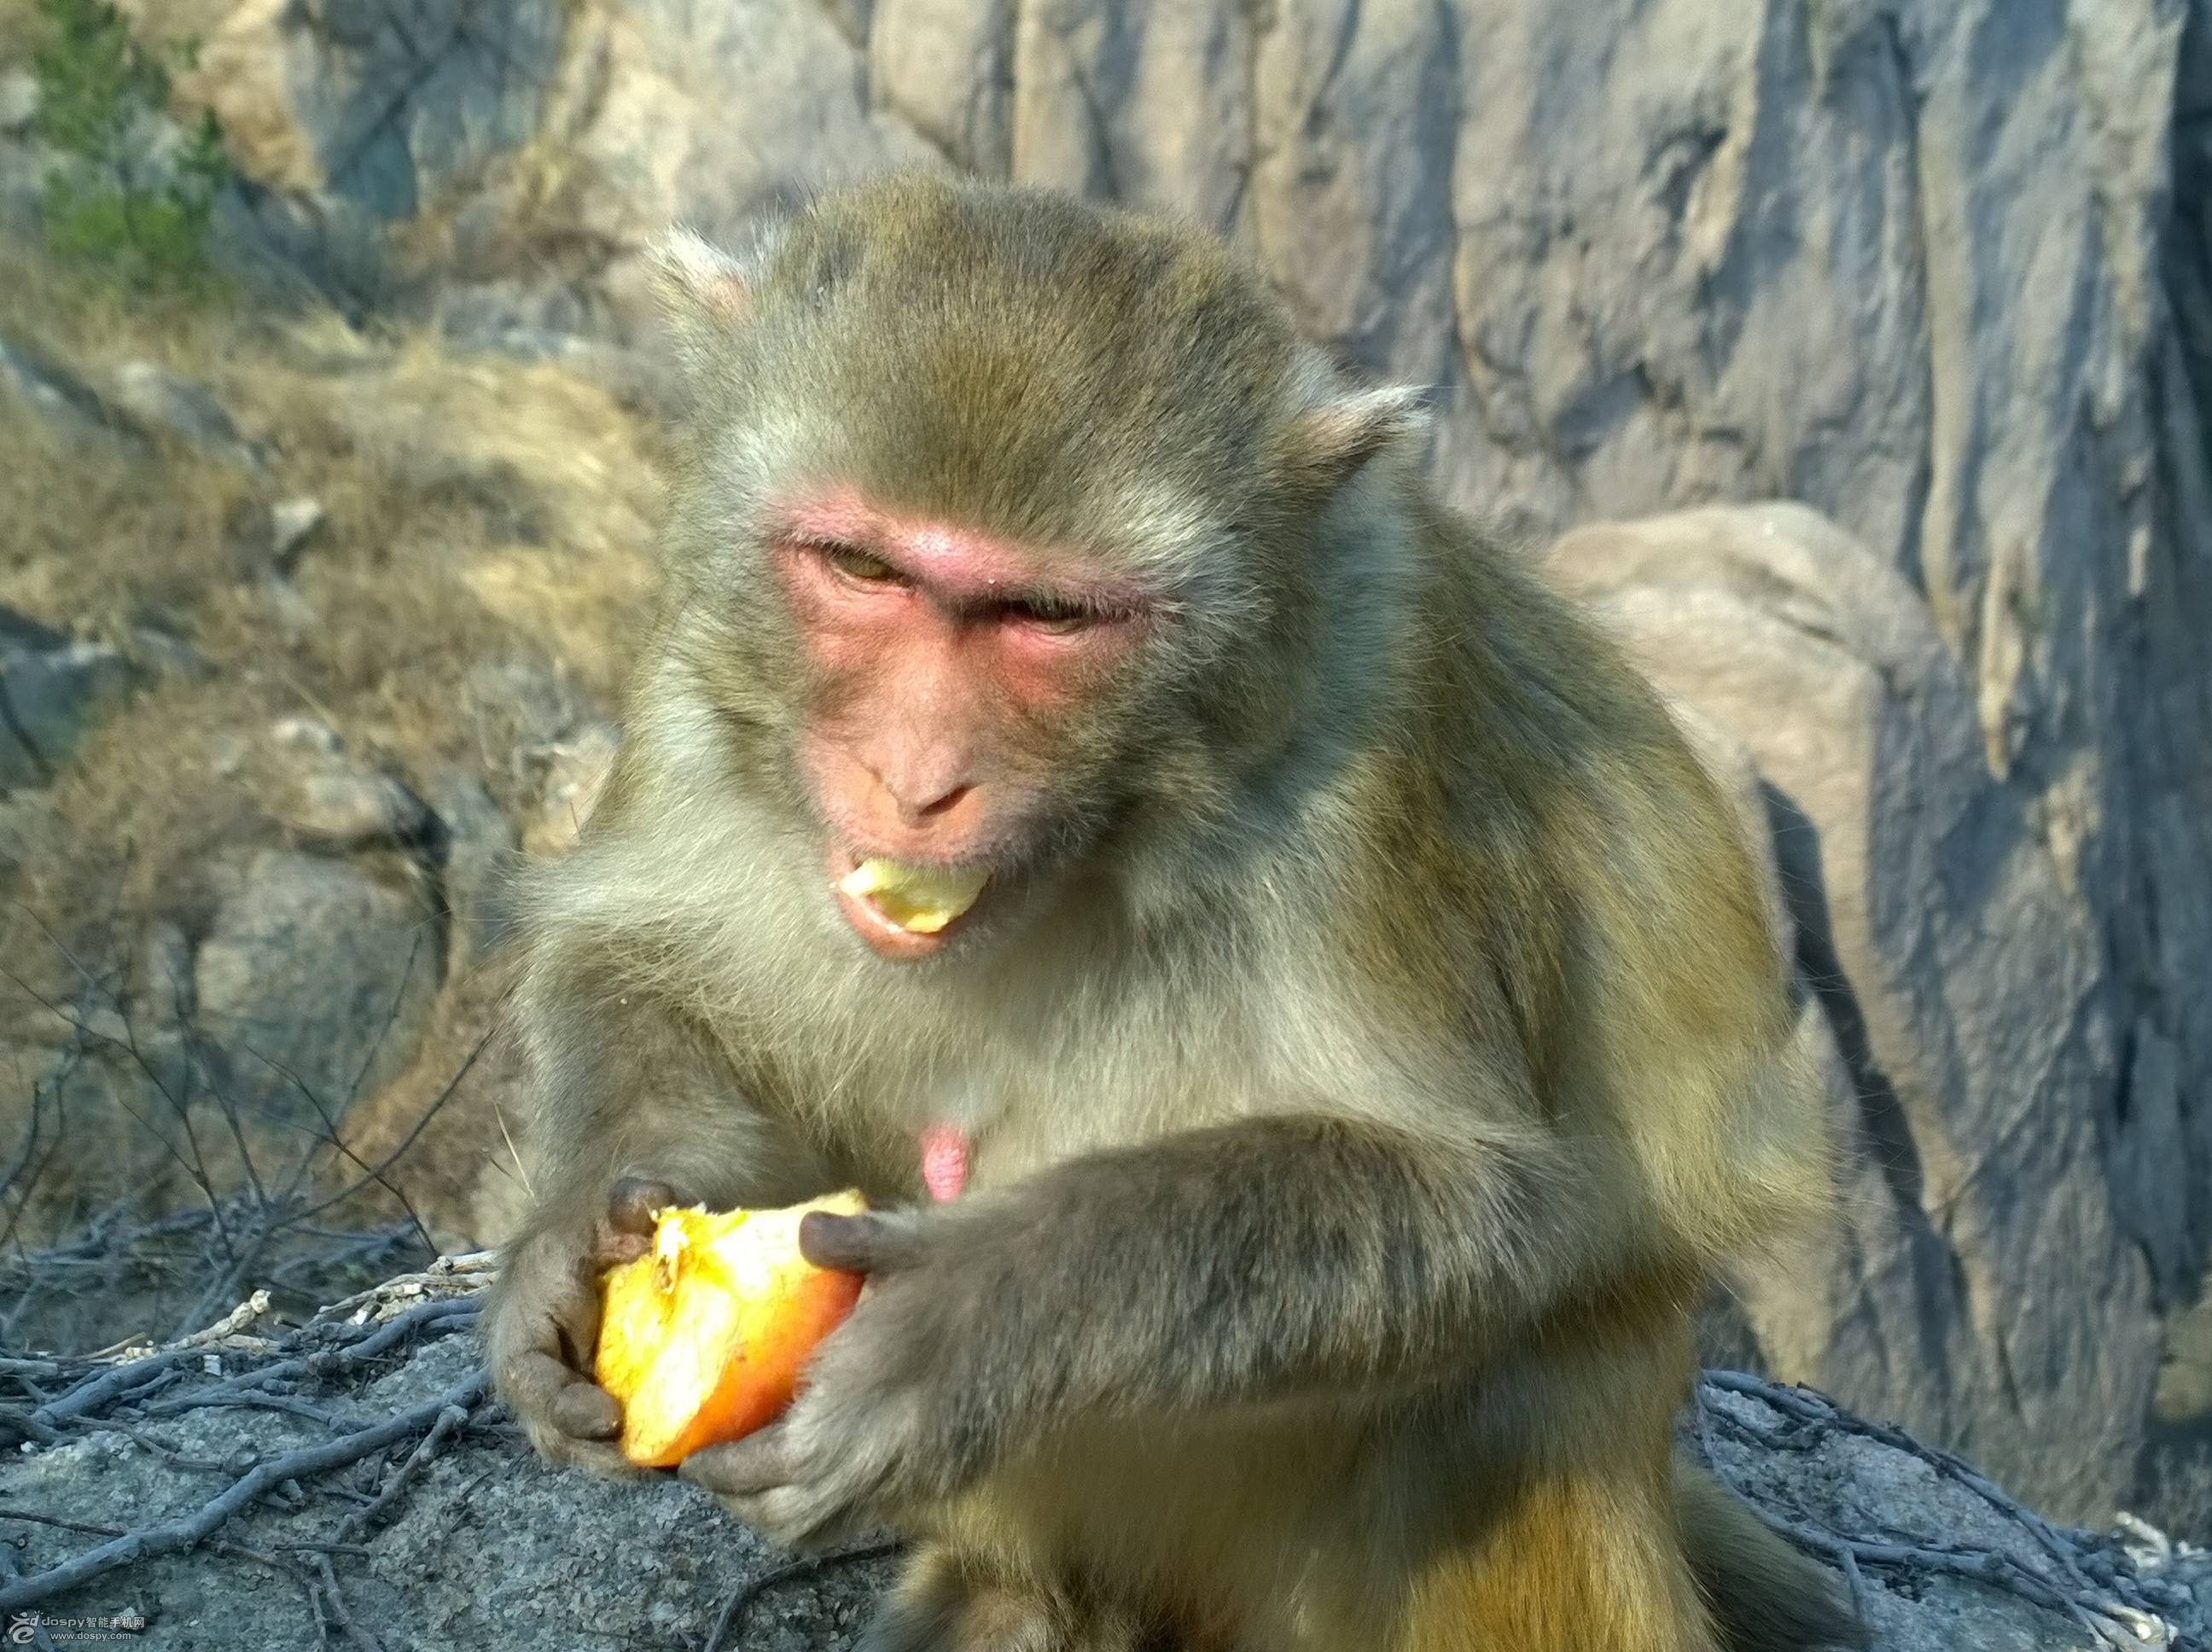monkey: (396, 175, 1830, 1622)
